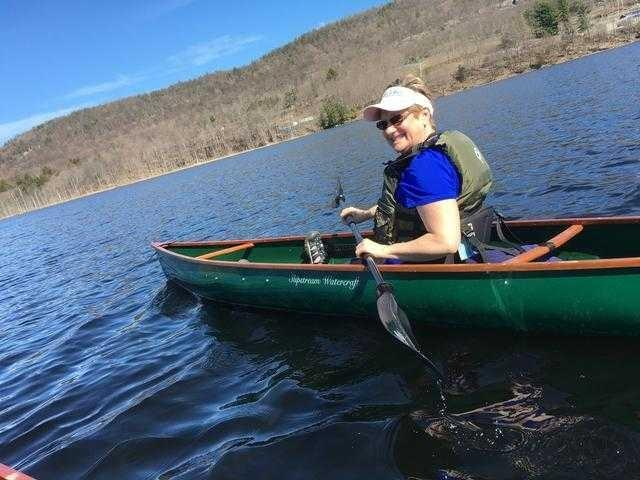kayak: (152, 223, 638, 338)
